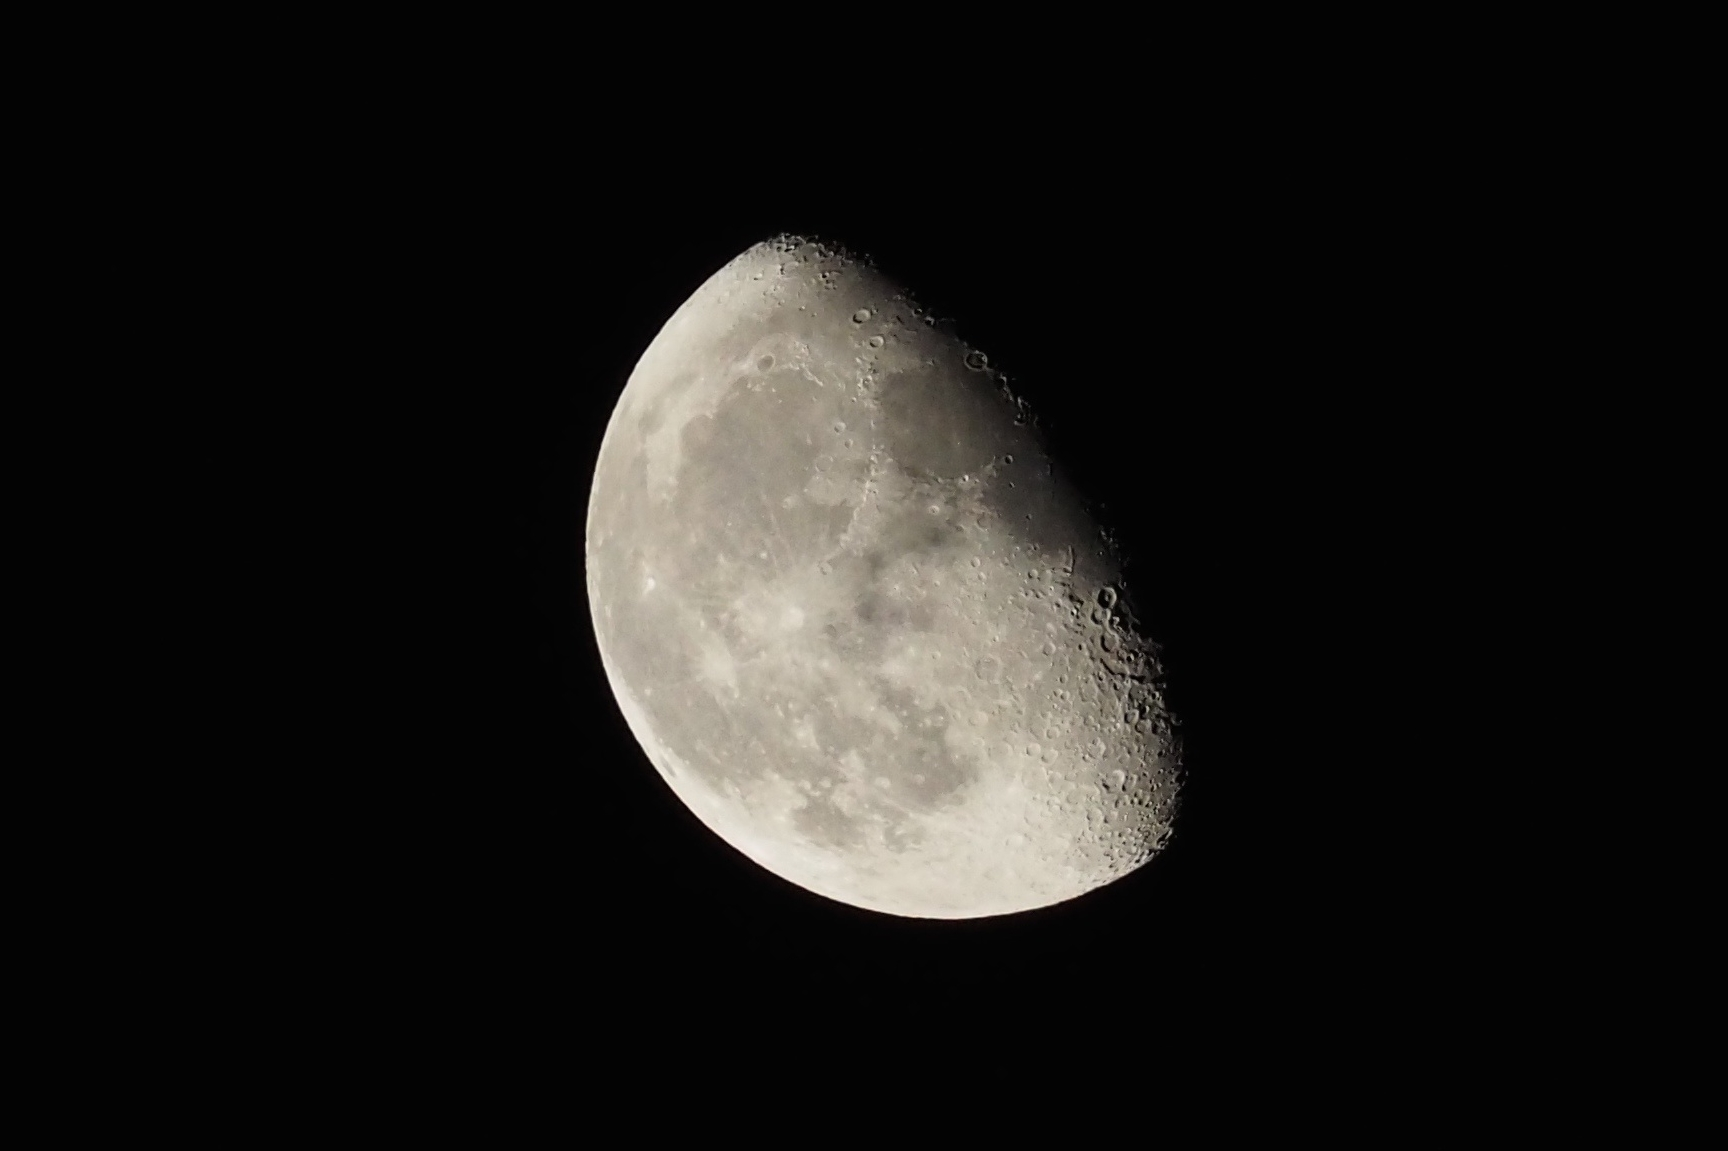crater: (750, 569, 830, 658), (969, 642, 1012, 689), (958, 342, 997, 379), (812, 407, 860, 435), (1092, 575, 1124, 615), (743, 346, 784, 376), (842, 304, 881, 330), (862, 328, 893, 357), (998, 446, 1023, 468)
